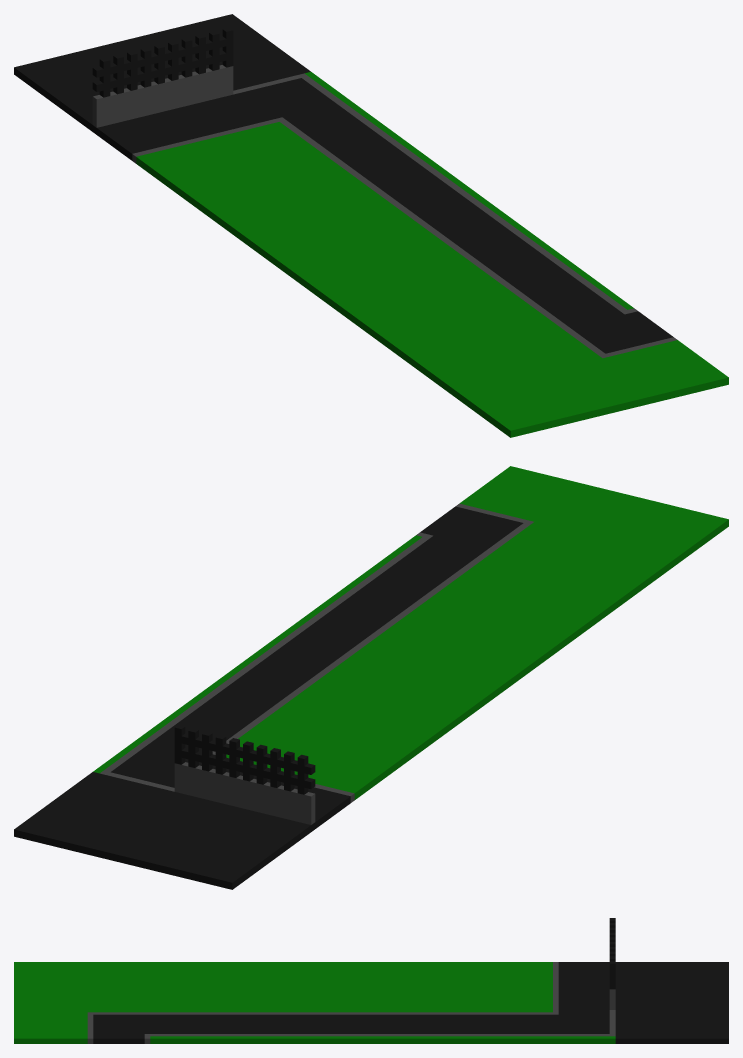
The model's file is Legorreta-1.obj.
The picture shows the model from 3 angles, top to bottom: view 1: azimuth 30°, elevation 25°; view 2: azimuth 150°, elevation 25°; view 3: azimuth 270°, elevation 25°; orthographic projection. The views are drawn at different scales.
Bounding box in the file's own units: 3.2 × 1 × 12.6.
